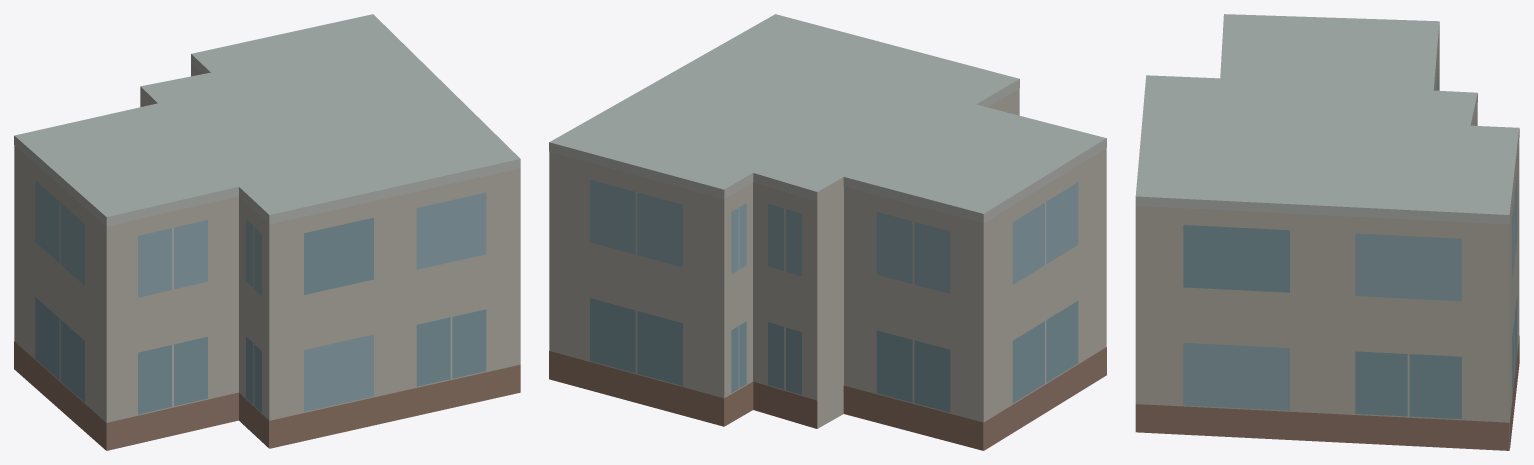
Rendered from survey-upis-32683779.glb.
The picture shows the model from 3 angles, left to right: view 1: azimuth 30°, elevation 25°; view 2: azimuth 150°, elevation 25°; view 3: azimuth 270°, elevation 25°; orthographic projection.
Visible parts, largest first — view 1: survey-upis-32683779.tmp; view 2: survey-upis-32683779.tmp; view 3: survey-upis-32683779.tmp.
Boxes of the visible parts, left/top/right/bottom form: survey-upis-32683779.tmp: left=14, top=14, right=520, bottom=450; survey-upis-32683779.tmp: left=549, top=14, right=1106, bottom=450; survey-upis-32683779.tmp: left=1135, top=14, right=1519, bottom=450.
Size of the model in its own units: 11.16 by 6.1 by 9.01.
